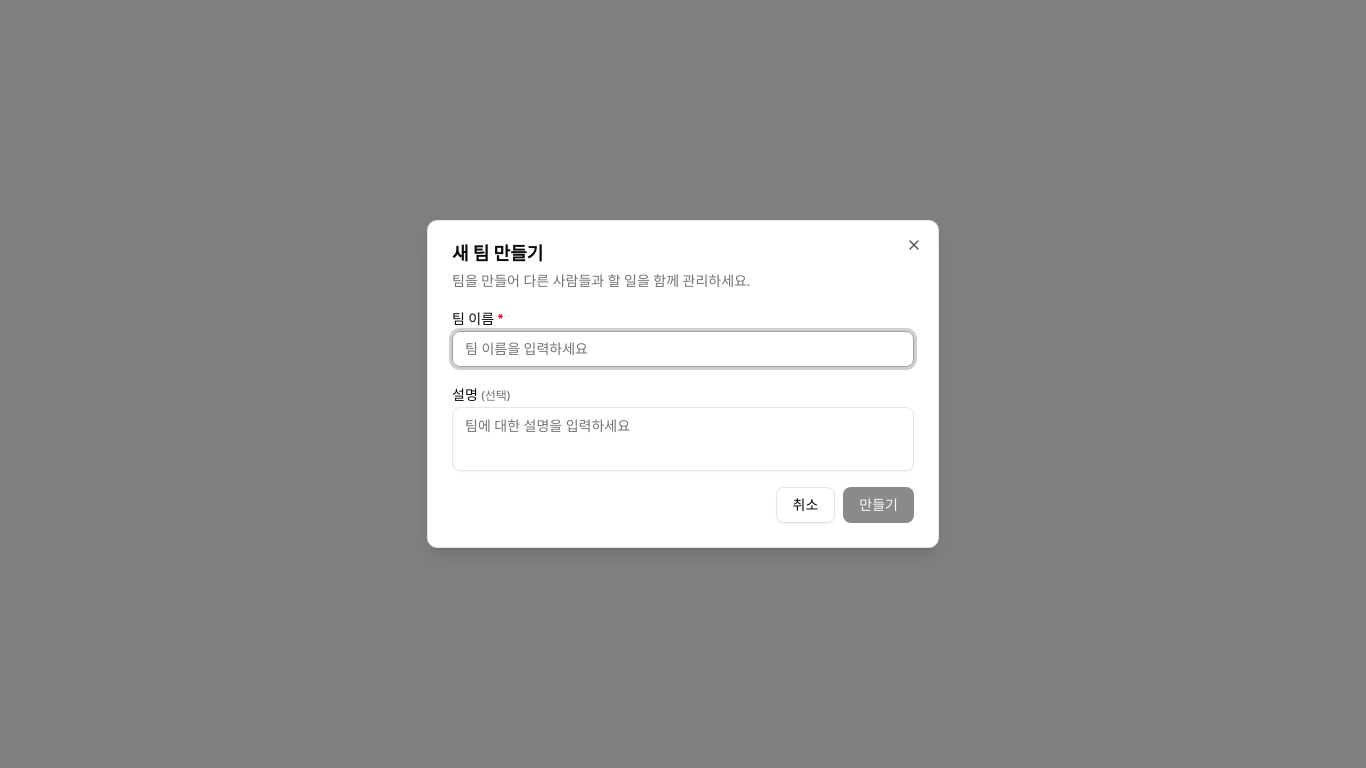
Test: CreateTeamDialog › shows character count for name
Type "Hello" into the field with placeholder "팀 이름을 입력하세요" at [683, 349], box [452,331,914,367]
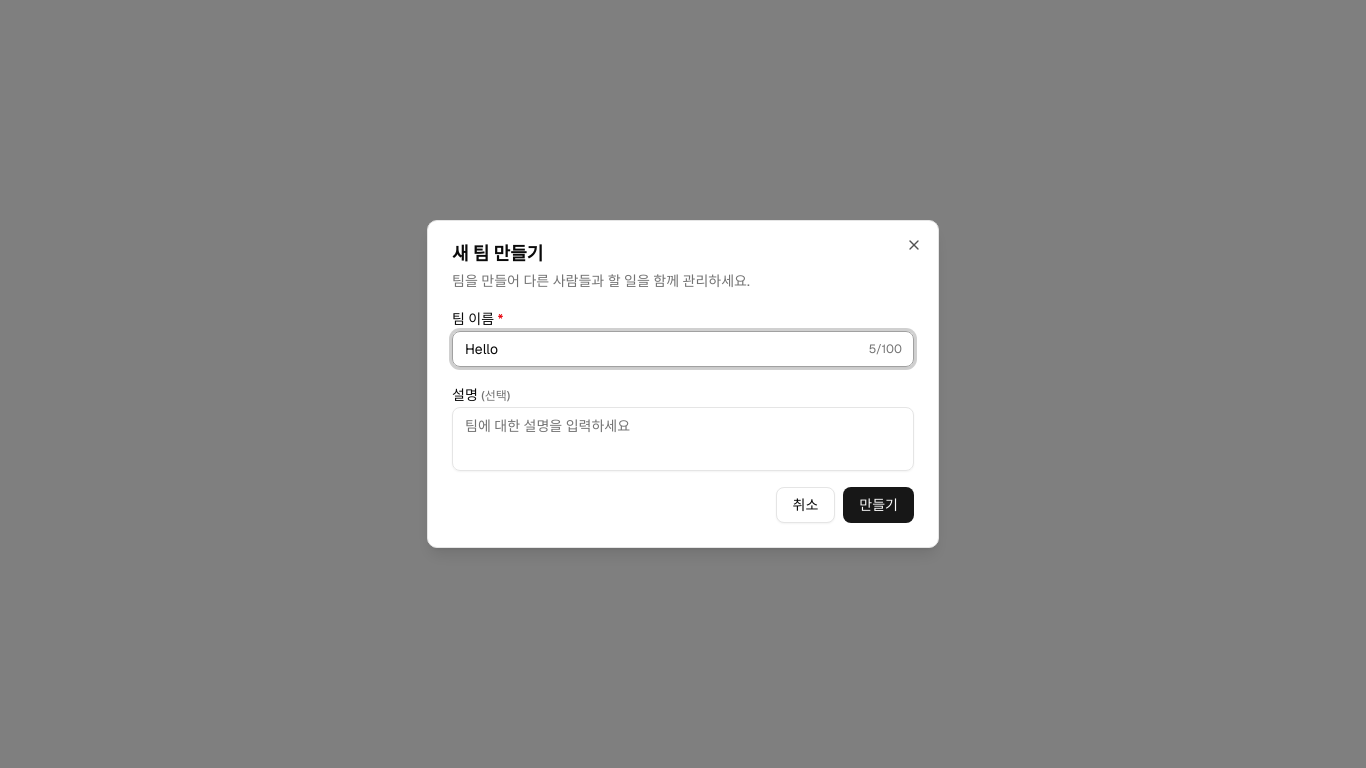
expect the text "5/100" is shown: met, box [869,341,902,357]
